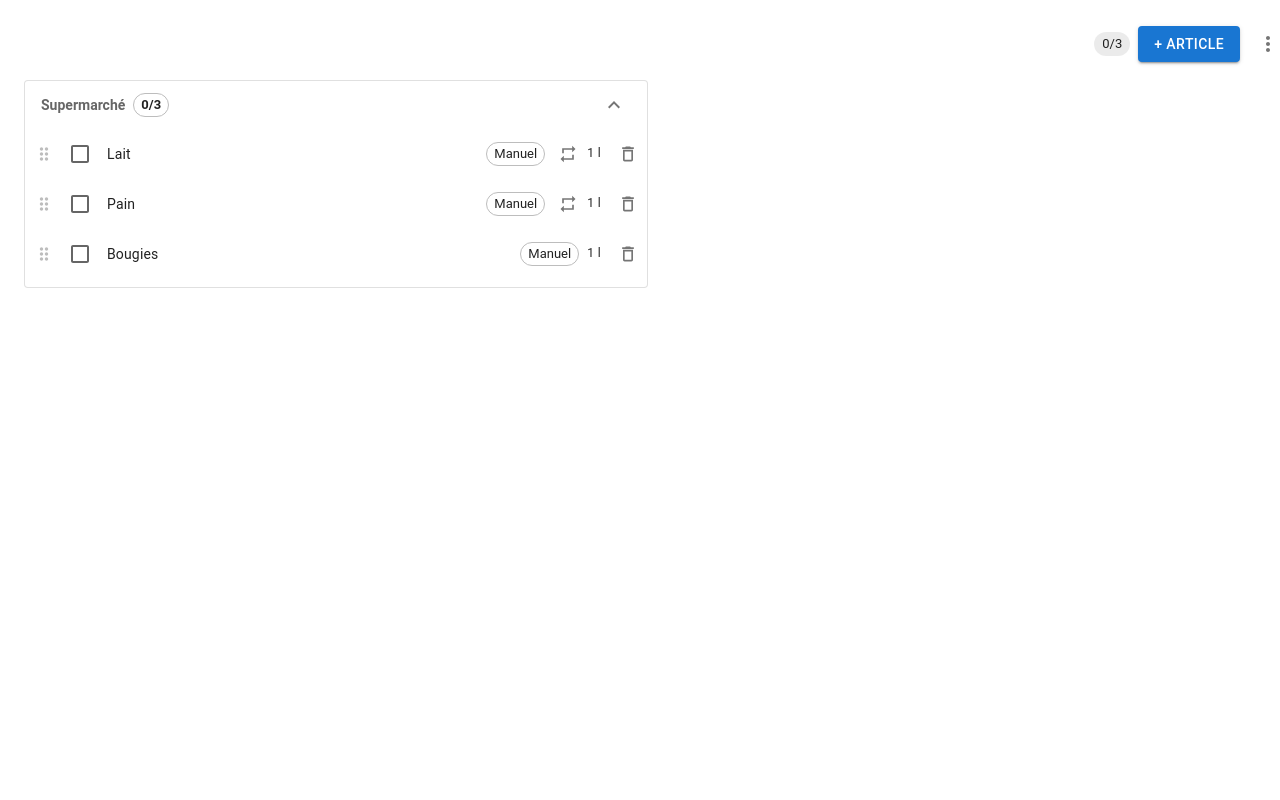
Test case: GroceryListView — recurring items › the « Produit récurrent » dialog › says so when nothing is recurring
Expected: the text "Lait" is shown, [107,146,131,162]
Click the button named "Plus d'actions": [1264, 44] box [1248,24,1279,64]
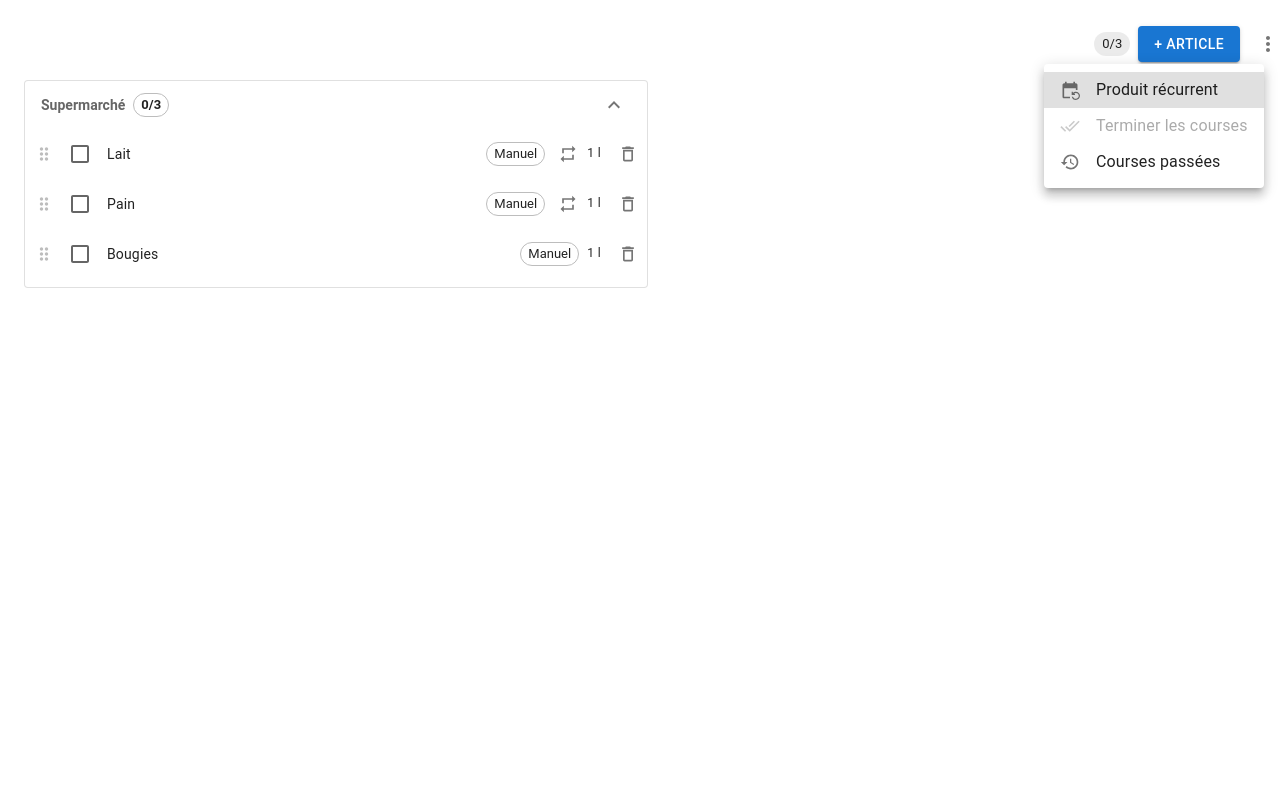
Click the menu item "Produit récurrent": [1154, 90] box [1044,72,1264,108]
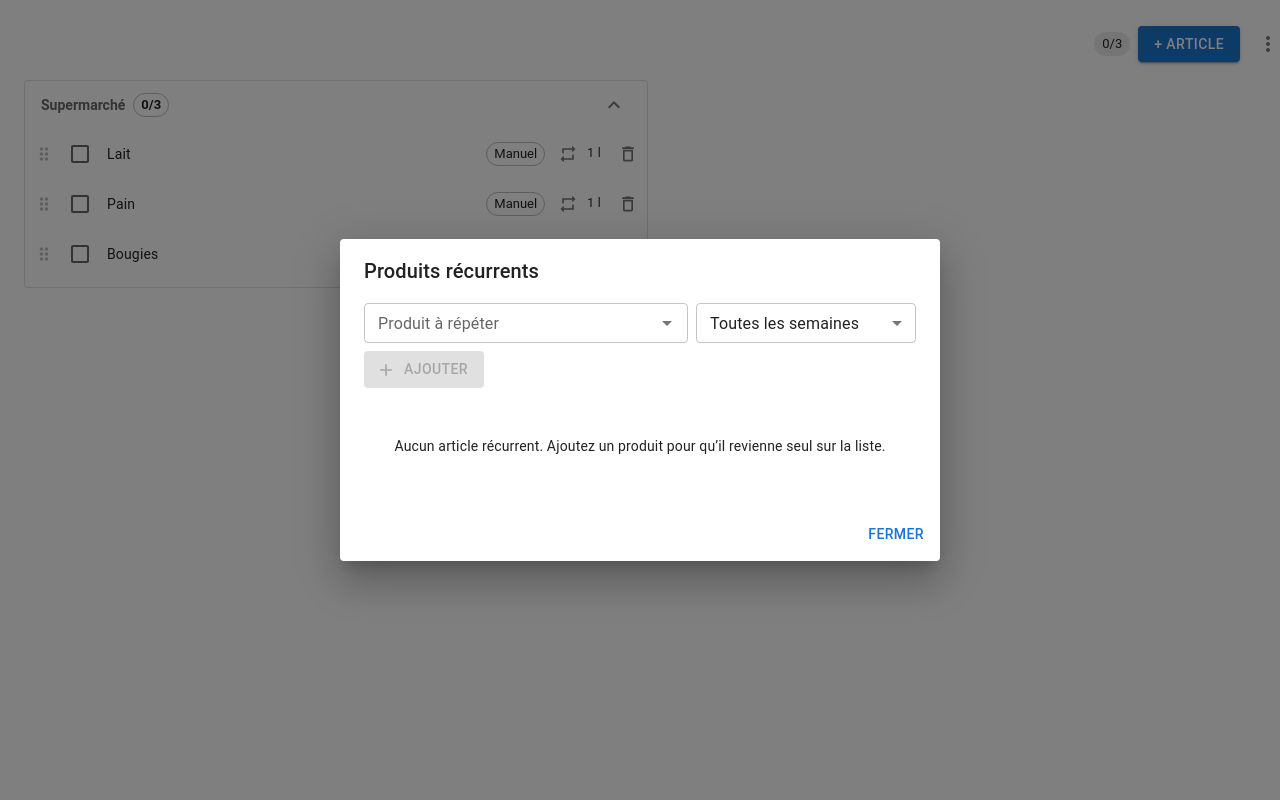
Now the text "Aucun article récurrent" is shown, box [394,438,886,454]
